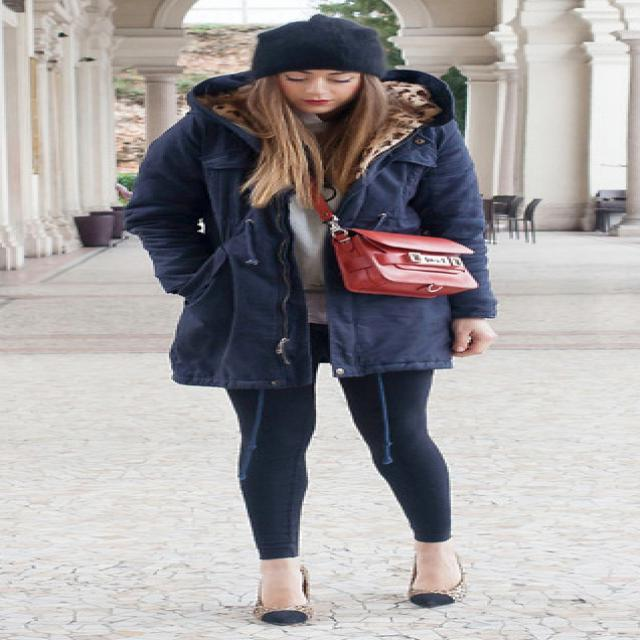coat: (120, 66, 500, 395)
sweater: (278, 114, 372, 327)
trousers: (222, 320, 455, 561)
